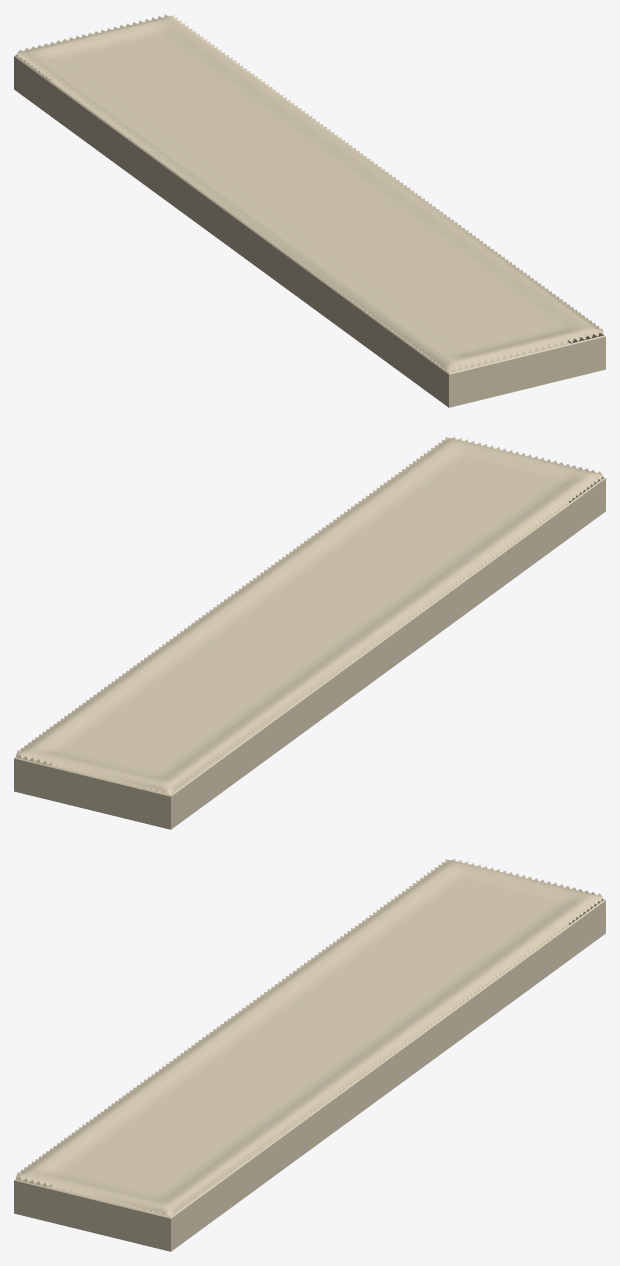
The model's file is mahsulot.glb.
3 renders of one model, top to bottom at view 1: azimuth 30°, elevation 25°; view 2: azimuth 150°, elevation 25°; view 3: azimuth 330°, elevation 25°, orthographic.
Parts seen in each view (by area): view 1: mahsulot; view 2: mahsulot; view 3: mahsulot.
Boxes of the visible parts, x1,y1,x2,y2 form: mahsulot: (14, 14, 605, 407); mahsulot: (14, 436, 605, 829); mahsulot: (14, 858, 605, 1251).
Size of the model in its own units: 0.25 by 0.0598 by 1.2.
